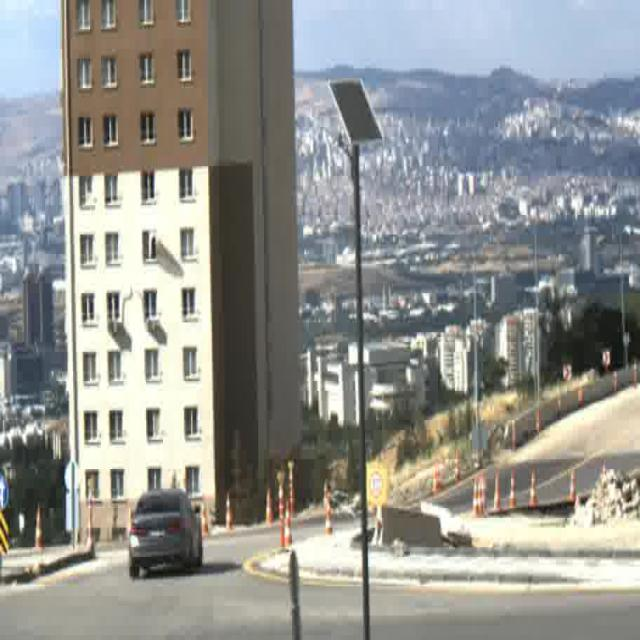Car: (129, 488, 202, 576)
